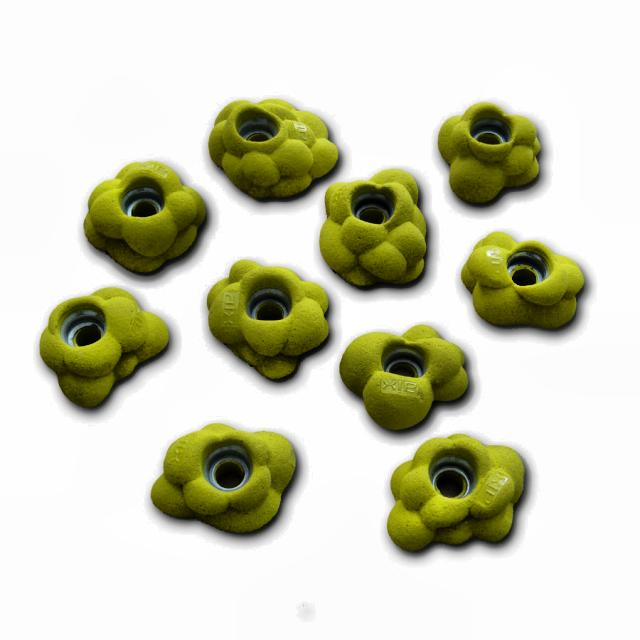Hold: (374, 438, 530, 557), (146, 422, 304, 537), (209, 244, 327, 388), (314, 159, 428, 298), (40, 284, 162, 413), (210, 94, 347, 205), (77, 154, 203, 274), (338, 318, 467, 429), (458, 225, 584, 328), (440, 98, 544, 201)
